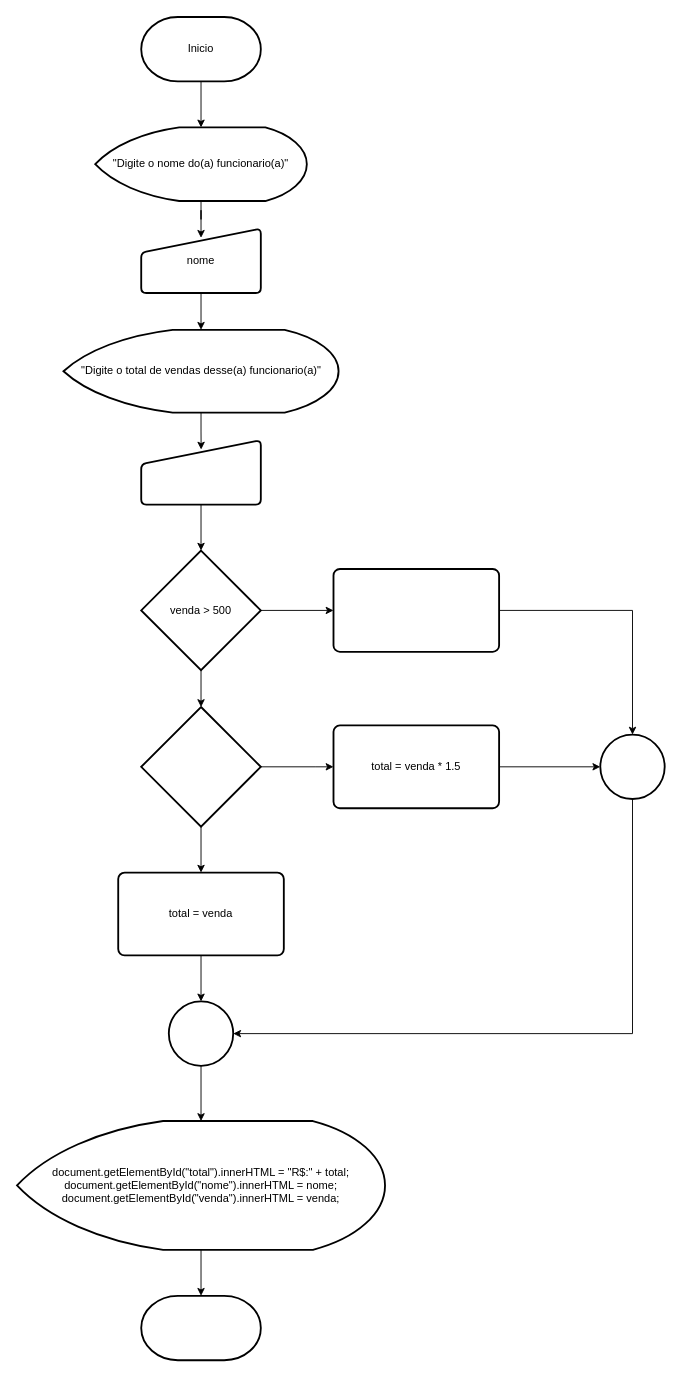
Some shapes in this 681 by 1376 pixel diagram are drawn without their labels. The shapes that lost their labels are listed below. From the top down, each one's centre as x and y in pixels, then its label:
point 200,472: venda
point 416,610: total = venda * 2
point 200,766: venda > 250
point 200,1327: Fim
